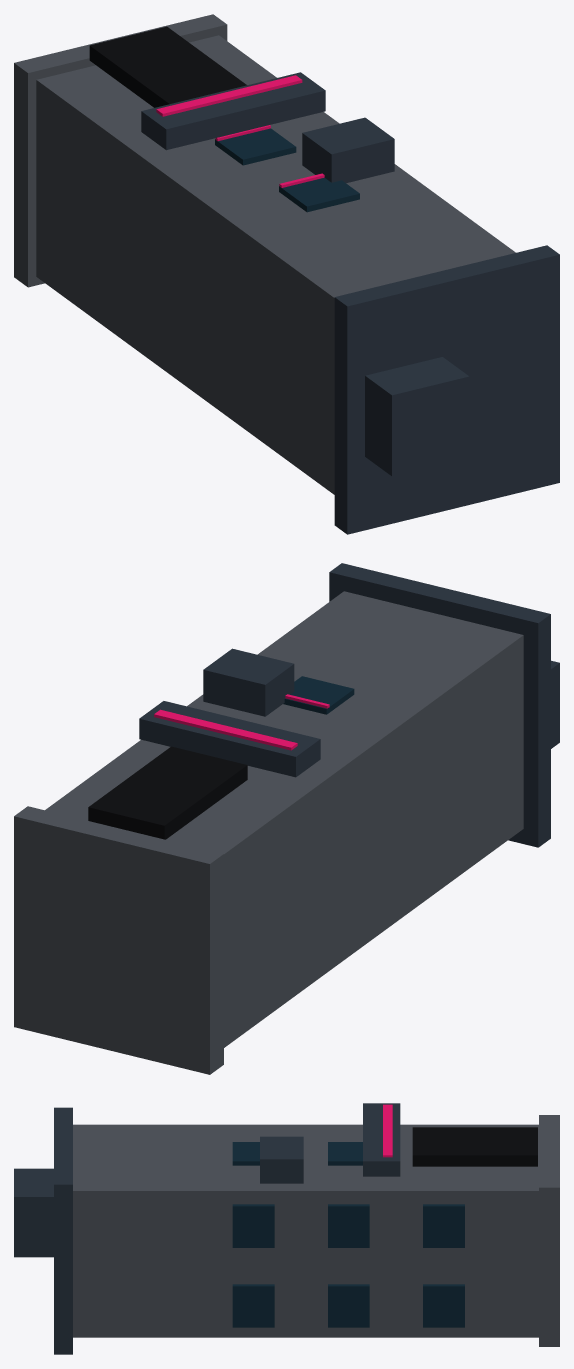
Rendered from ENV_building_west.obj.
3 views of the same model, one above another, from view 1: azimuth 30°, elevation 25°; view 2: azimuth 150°, elevation 25°; view 3: azimuth 270°, elevation 25° (orthographic). The views are drawn at different scales.
Visible parts, largest first — view 1: ENV_building_west; view 2: ENV_building_west; view 3: ENV_building_west.
Boxes of the visible parts, x1=… form: ENV_building_west: x1=14, y1=14, x2=559, y2=534; ENV_building_west: x1=14, y1=563, x2=559, y2=1074; ENV_building_west: x1=14, y1=1103, x2=559, y2=1354.
Bounding box in the file's own units: 1.92 × 2.16 × 5.74.
